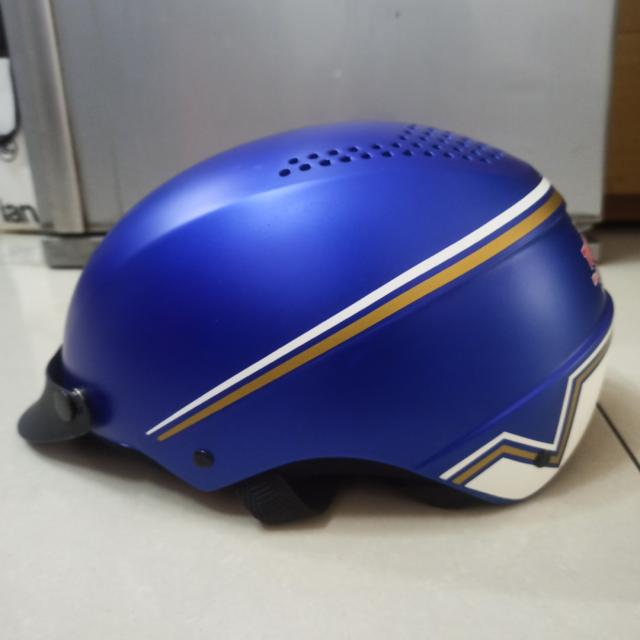Helmet: (17, 116, 616, 523)
